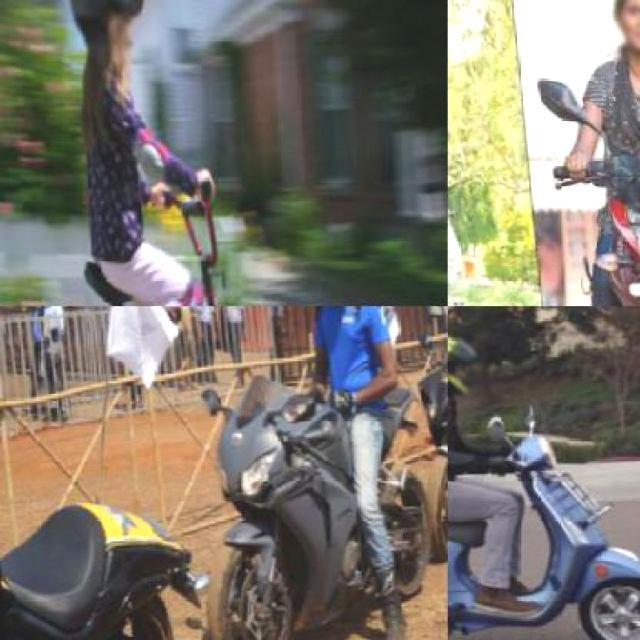With Helmet: (57, 0, 144, 52), (448, 322, 490, 406)
Without Helmet: (603, 0, 639, 65)
